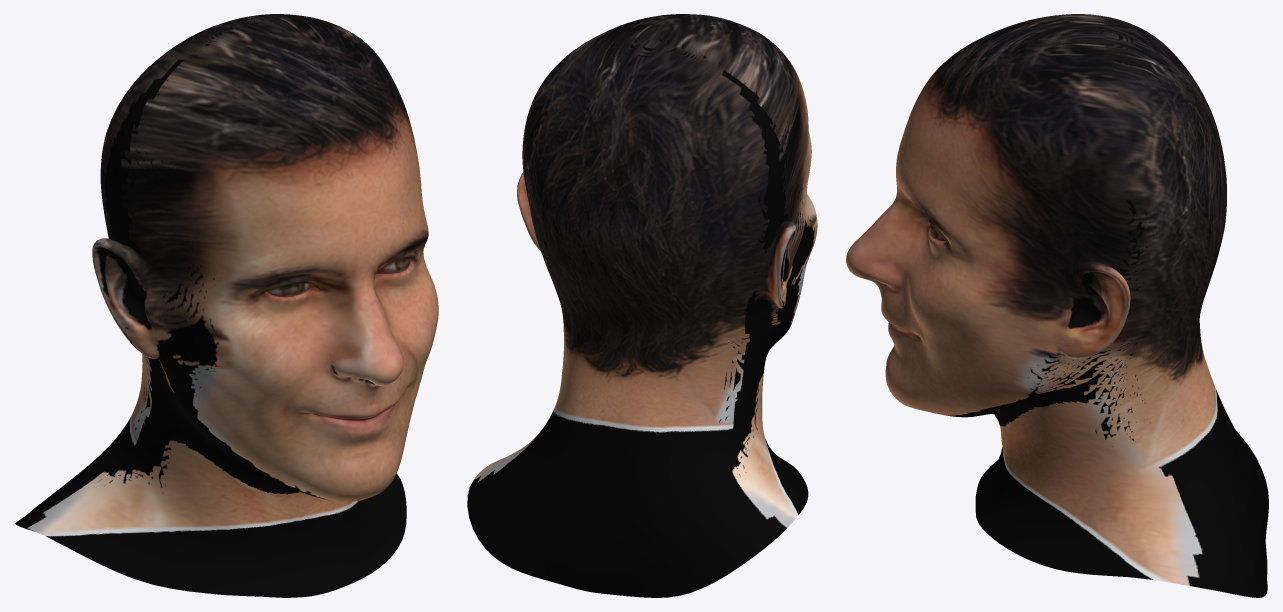
The model's file is master_1.glb.
3 renders of one model, left to right at view 1: azimuth 30°, elevation 25°; view 2: azimuth 150°, elevation 25°; view 3: azimuth 270°, elevation 25°, orthographic. The views are drawn at different scales.
Parts seen in each view (by area): view 1: FBHead.007; view 2: FBHead.007; view 3: FBHead.007.
Part boxes in pixels (x1,y1,x2,y2): FBHead.007: (14, 14, 438, 597); FBHead.007: (467, 14, 817, 597); FBHead.007: (846, 14, 1268, 597).
Bounding box in the file's own units: 1.66 × 2.53 × 1.83.
1 material, 1 textured.
